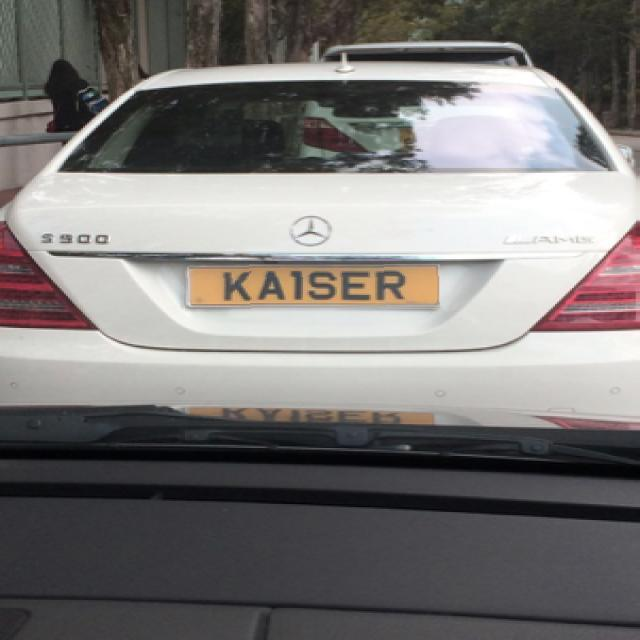licence: (181, 264, 440, 310)
